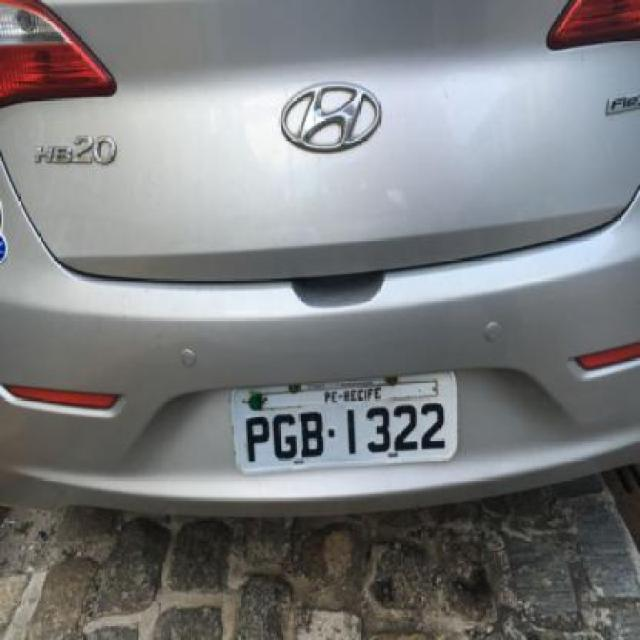old_plate: (225, 365, 462, 480)
